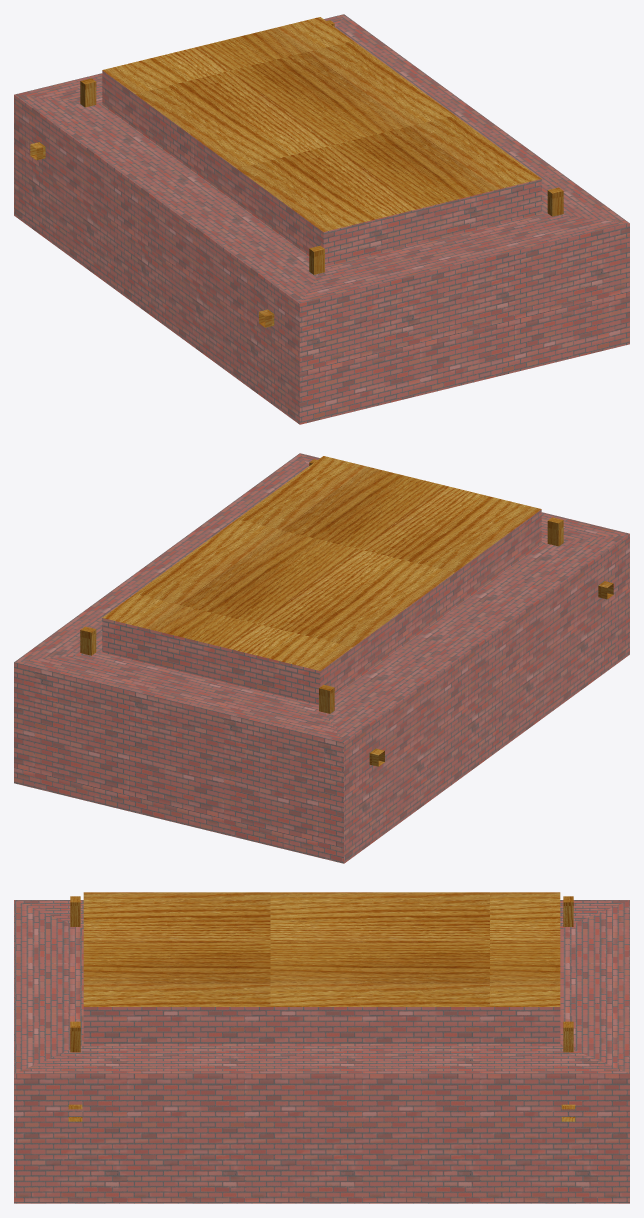
3 views of the same model, one above another, from view 1: azimuth 30°, elevation 25°; view 2: azimuth 150°, elevation 25°; view 3: azimuth 270°, elevation 25° (orthographic). The views are drawn at different scales.
Visible parts, largest first — view 1: HALL; view 2: HALL; view 3: HALL.
Boxes of the visible parts, left/top/right/bottom form: HALL: left=14, top=14, right=629, bottom=424; HALL: left=14, top=453, right=629, bottom=863; HALL: left=14, top=892, right=629, bottom=1203.
Bounding box in the file's own units: 21.11 × 9 × 30.
Materials: 2 (2 with a texture image).
